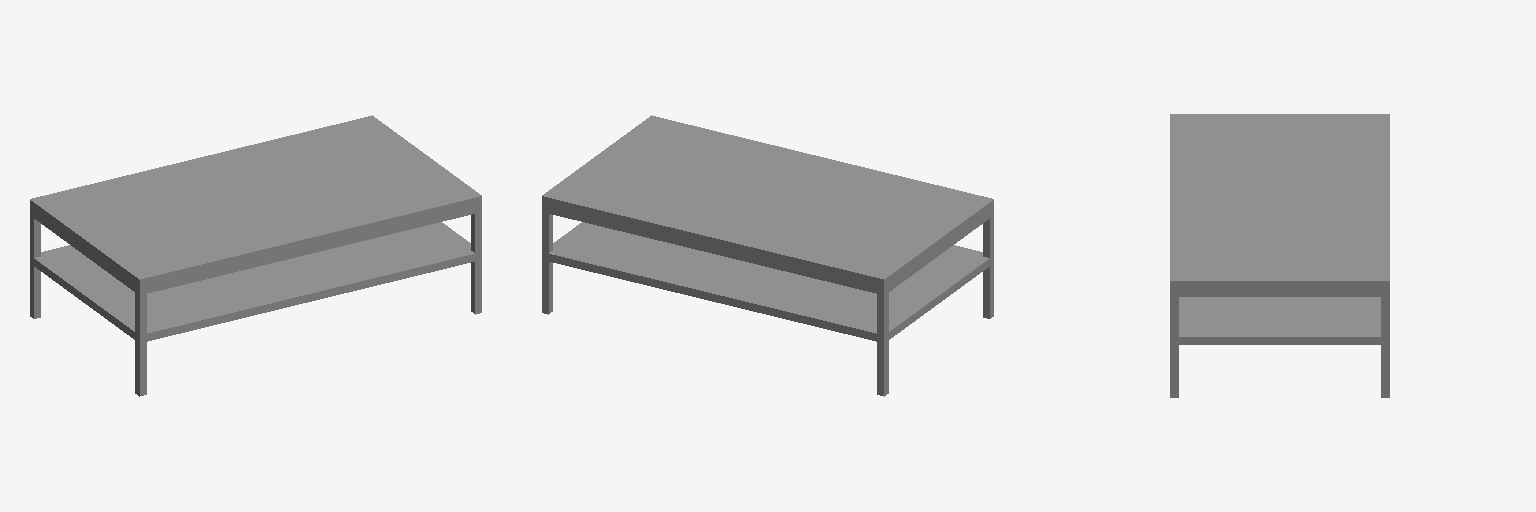
The model's file is coffee_table2.obj.
The picture shows the model from 3 angles: view 1: azimuth 30°, elevation 25°; view 2: azimuth 150°, elevation 25°; view 3: azimuth 270°, elevation 25°; orthographic projection.
Visible parts, largest first — view 1: up_Untitled, metal_Untitled.001; view 2: up_Untitled, metal_Untitled.001; view 3: up_Untitled, metal_Untitled.001.
Part boxes in pixels (x1,y1,x2,y2): up_Untitled: (30, 115, 481, 287); metal_Untitled.001: (30, 204, 481, 396); up_Untitled: (542, 115, 993, 287); metal_Untitled.001: (542, 204, 993, 396); up_Untitled: (1170, 114, 1389, 288); metal_Untitled.001: (1170, 289, 1389, 397).
Bounding box in the file's own units: 0.9002 × 0.293 × 0.5001.